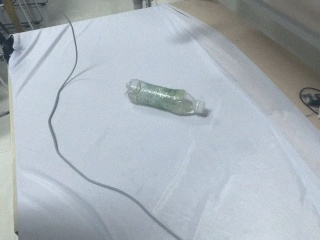bottle: (126, 79, 208, 117)
